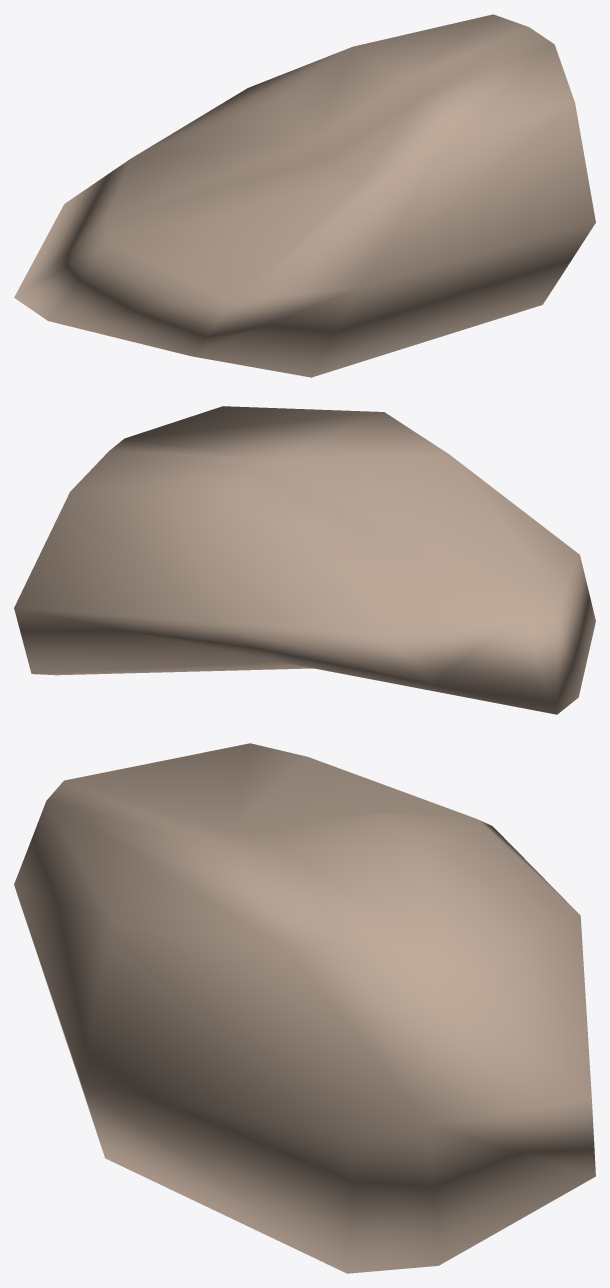
File: rock02_v001.fbx
3 views of the same model, one above another, from view 1: azimuth 30°, elevation 25°; view 2: azimuth 150°, elevation 25°; view 3: azimuth 270°, elevation 25° (orthographic). The views are drawn at different scales.
Visible parts, largest first — view 1: pCube4; view 2: pCube4; view 3: pCube4.
Part boxes in pixels (x1,y1,x2,y2): pCube4: (14, 14, 595, 377); pCube4: (14, 406, 595, 714); pCube4: (14, 743, 595, 1273).
Bounding box in the file's own units: 159 × 70.01 × 111.
